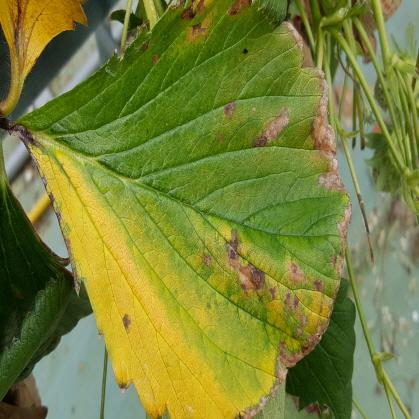Angular Leafspot: (12, 0, 352, 418)
